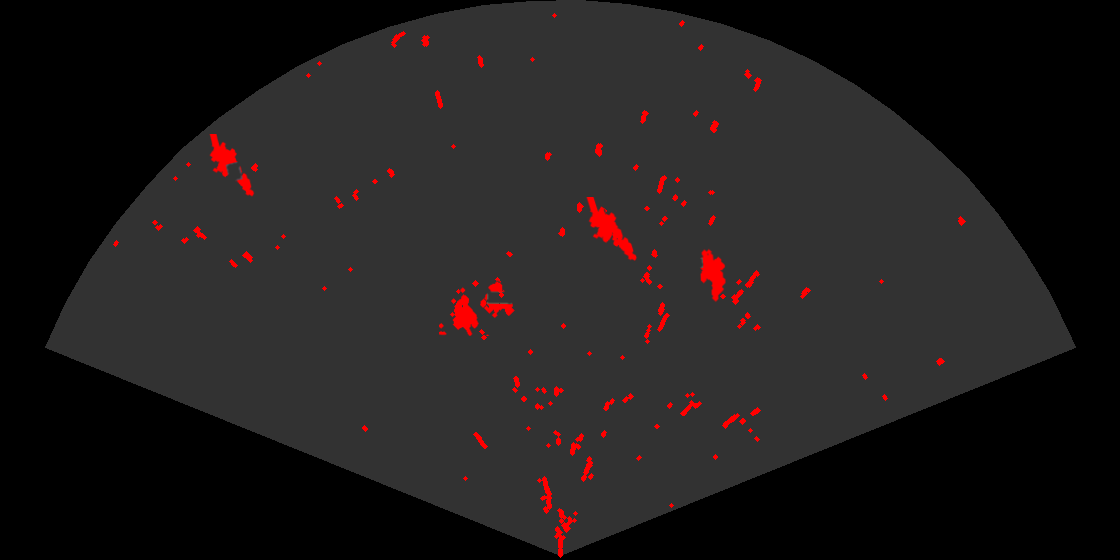AUV: (699, 247, 727, 304)
cage: (439, 280, 516, 336)
frogman: (585, 197, 639, 262), (208, 134, 256, 198)
